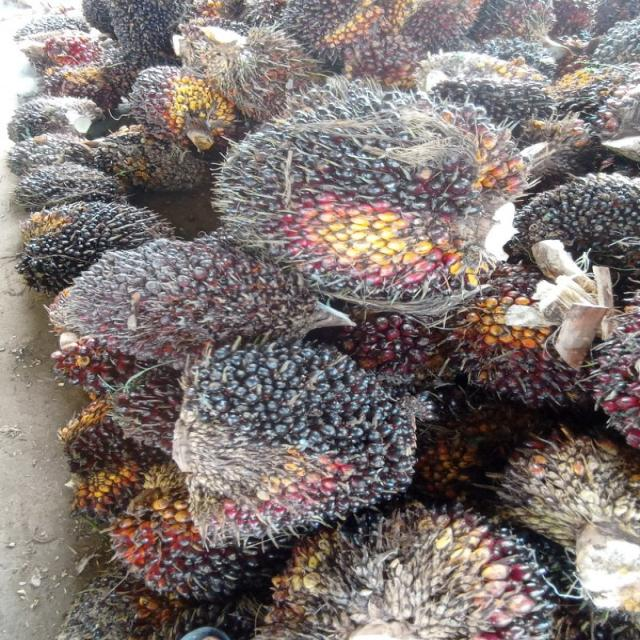fraksi 00: (221, 88, 535, 304), (183, 351, 433, 539), (15, 197, 160, 286), (10, 160, 120, 218)
fraksi 1: (40, 230, 323, 359)
